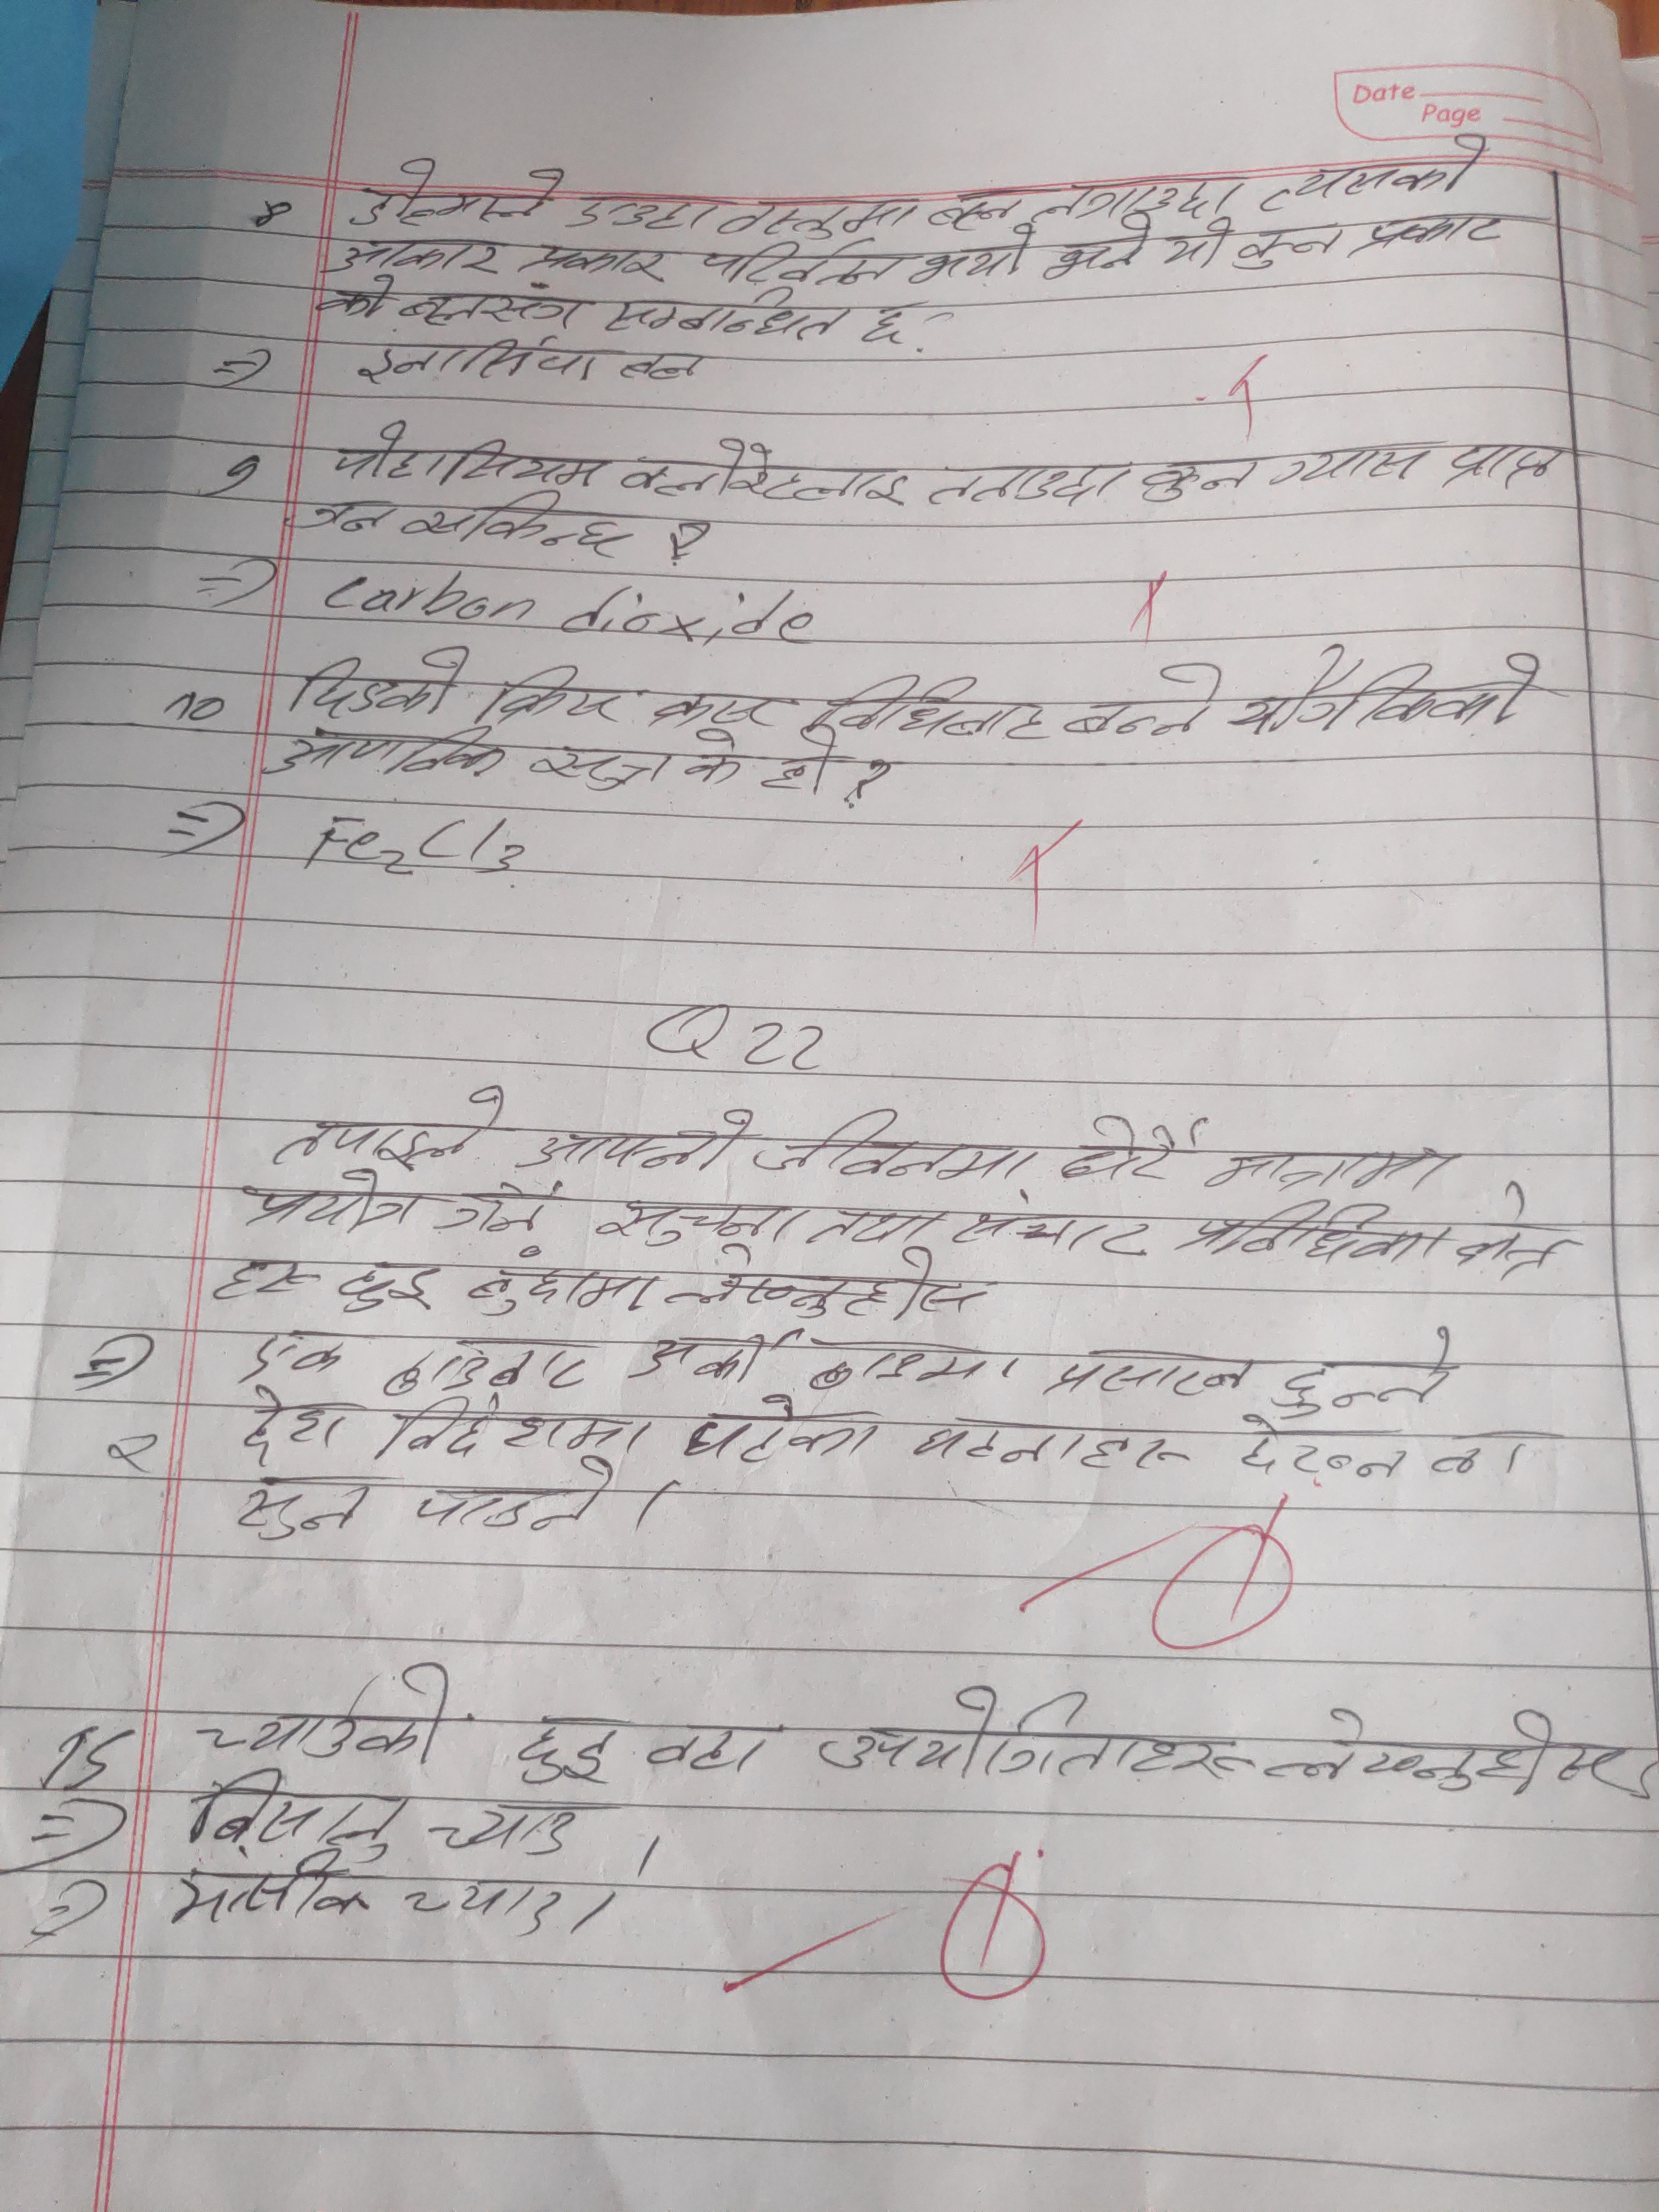text: (810, 1686, 1251, 1782), (1253, 1700, 1631, 1797), (1227, 643, 1544, 733), (192, 1663, 460, 1763), (908, 1404, 1194, 1484), (627, 432, 913, 507), (755, 1104, 1046, 1177), (326, 418, 603, 489), (270, 1078, 502, 1163), (193, 1770, 413, 1858), (382, 1392, 645, 1463), (807, 672, 1053, 744), (1180, 1200, 1450, 1264), (263, 716, 502, 787), (1272, 1336, 1466, 1420), (519, 1108, 756, 1176), (1253, 136, 1486, 204), (403, 491, 633, 559), (413, 1460, 617, 1536), (1211, 1137, 1469, 1197), (380, 1324, 598, 1393), (688, 1388, 885, 1465), (357, 153, 566, 225), (603, 282, 852, 341), (957, 1191, 1155, 1263), (1051, 1339, 1262, 1406), (354, 331, 603, 387), (807, 1332, 1028, 1393), (169, 1858, 371, 1923), (286, 641, 460, 714), (1237, 1418, 1420, 1487), (467, 1252, 664, 1317), (1054, 662, 1223, 737), (1455, 1176, 1574, 1280), (225, 1170, 422, 1231), (471, 660, 636, 732), (1028, 165, 1258, 216), (598, 1191, 805, 1245), (1049, 1116, 1208, 1186), (392, 1872, 563, 1937), (392, 275, 591, 329), (622, 1322, 784, 1388), (917, 462, 1136, 507), (234, 1475, 366, 1550), (723, 188, 924, 237), (427, 1797, 591, 1857), (856, 1252, 988, 1324), (1351, 202, 1509, 260), (319, 235, 505, 284), (641, 1714, 781, 1778), (699, 239, 913, 280), (516, 1712, 624, 1794), (237, 1390, 354, 1465), (572, 181, 721, 239), (530, 735, 676, 792), (1272, 441, 1432, 491), (340, 1245, 444, 1322), (512, 237, 669, 284), (648, 683, 793, 732), (1044, 219, 1155, 282), (230, 1324, 352, 1379), (1441, 439, 1570, 491), (755, 730, 843, 805), (807, 1195, 950, 1240), (1134, 453, 1262, 503), (441, 1184, 559, 1238), (211, 1249, 308, 1308), (673, 726, 749, 798), (1236, 223, 1344, 273), (922, 178, 1028, 226), (286, 495, 399, 536), (308, 280, 401, 331), (922, 242, 1032, 284), (1162, 212, 1230, 273), (622, 340, 708, 385), (1429, 1421, 1492, 1479), (859, 294, 915, 345)
